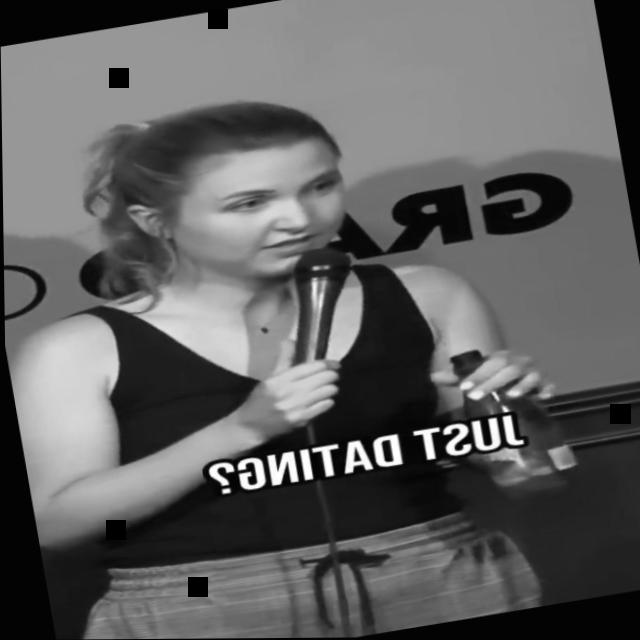NO-Mask: (148, 138, 366, 302)
